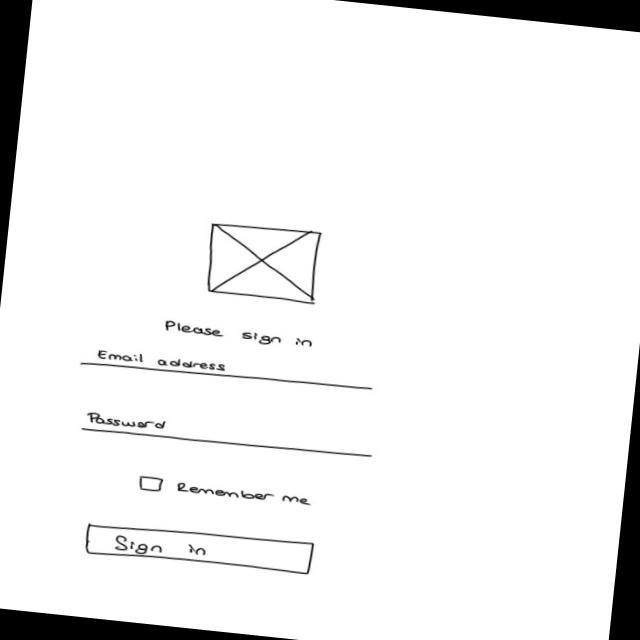button: (83, 518, 316, 578)
checkbox: (137, 475, 315, 511)
image: (205, 220, 325, 306)
input: (82, 410, 375, 462), (80, 347, 375, 397)
label: (163, 320, 316, 352)
